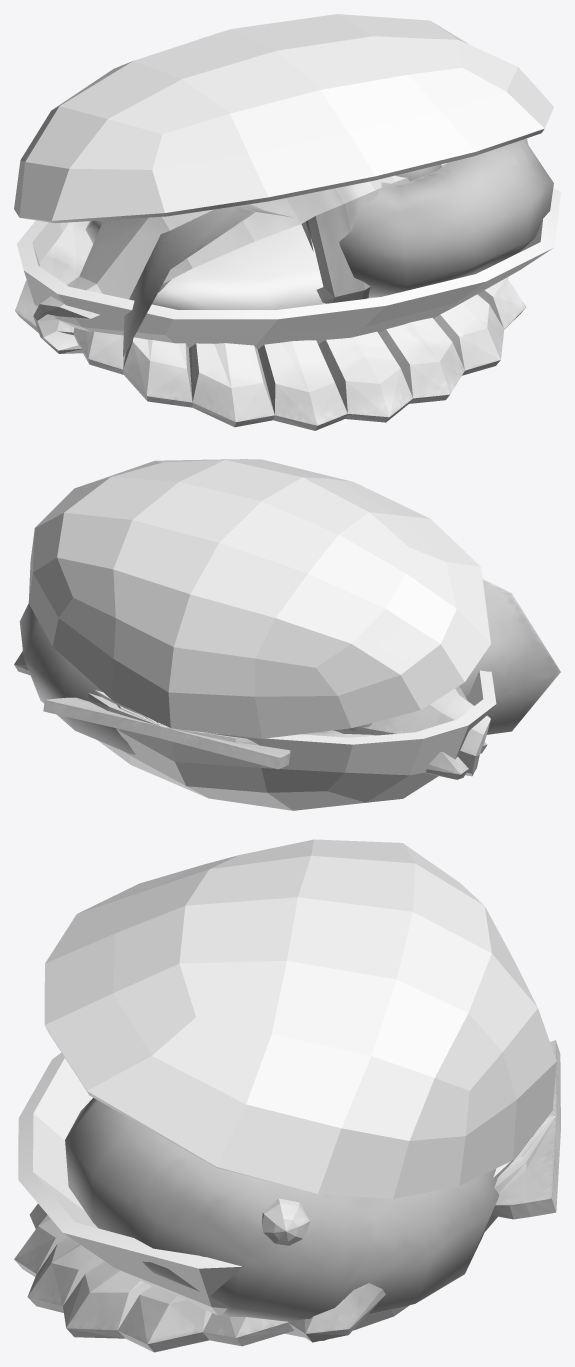
The model's file is shells.glb.
The picture shows the model from 3 angles, top to bottom: view 1: azimuth 30°, elevation 25°; view 2: azimuth 150°, elevation 25°; view 3: azimuth 270°, elevation 25°; orthographic projection. The views are drawn at different scales.
Parts seen in each view (by area): view 1: clam, scallop, spiral, conch; view 2: clam, spiral, scallop, conch; view 3: clam, spiral, scallop, conch.
Boxes of the visible parts, x1=… form: clam: x1=14, y1=14, x2=560, y2=349; scallop: x1=15, y1=221, x2=526, y2=430; spiral: x1=123, y1=139, x2=553, y2=356; conch: x1=33, y1=138, x2=528, y2=353; clam: x1=28, y1=459, x2=496, y2=810; spiral: x1=19, y1=579, x2=560, y2=754; scallop: x1=14, y1=651, x2=487, y2=779; conch: x1=333, y1=686, x2=490, y2=776; clam: x1=18, y1=839, x2=556, y2=1340; spiral: x1=65, y1=1098, x2=499, y2=1321; scallop: x1=14, y1=1040, x2=560, y2=1352; conch: x1=262, y1=1198, x2=309, y2=1245.
Bounding box in the file's own units: 0.9 × 0.5206 × 0.6952.
Materials: 4 (4 with a texture image).
